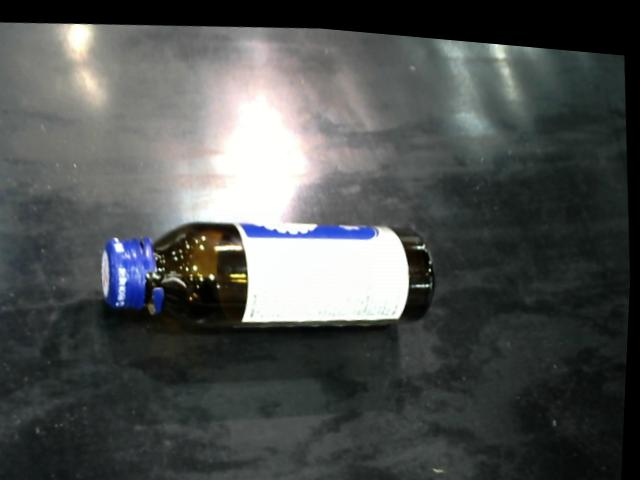glass: (100, 208, 447, 335)
